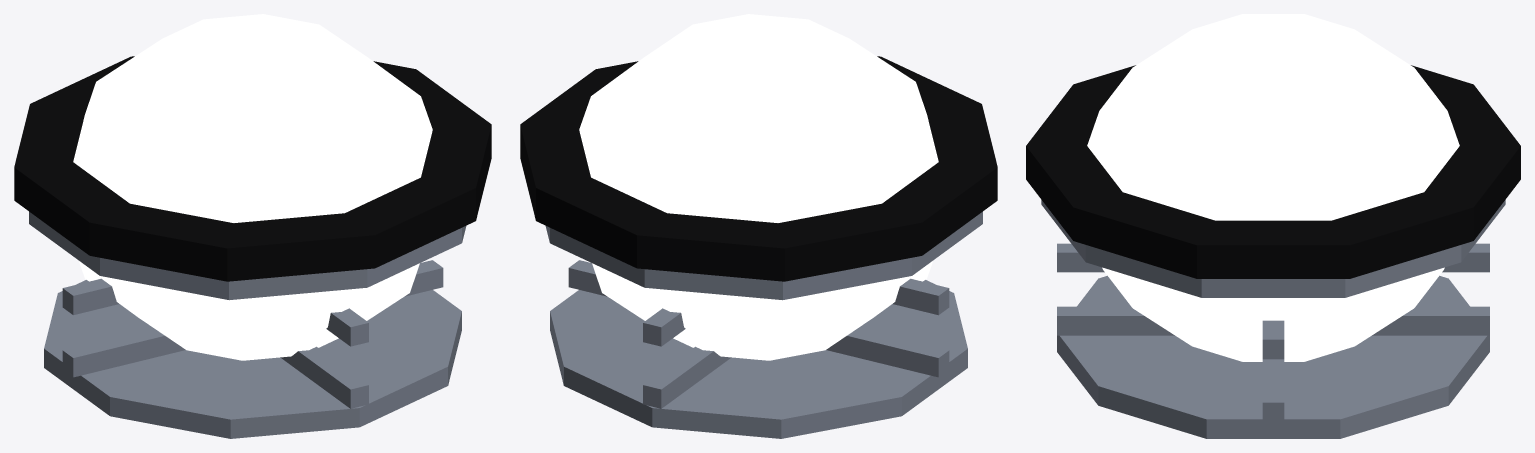
File: SM_Light_Dome_Bulkhead.glb
3 views of the same model, side by side, from view 1: azimuth 30°, elevation 25°; view 2: azimuth 150°, elevation 25°; view 3: azimuth 270°, elevation 25° (orthographic).
Visible parts, largest first — view 1: SM_Light_Dome_Bulkhead; view 2: SM_Light_Dome_Bulkhead; view 3: SM_Light_Dome_Bulkhead.
Part boxes in pixels (left/top/right/bottom): SM_Light_Dome_Bulkhead: left=14, top=14, right=491, bottom=438; SM_Light_Dome_Bulkhead: left=520, top=14, right=997, bottom=438; SM_Light_Dome_Bulkhead: left=1026, top=14, right=1520, bottom=438.
Bounding box in the file's own units: 0.3043 × 0.227 × 0.32.
